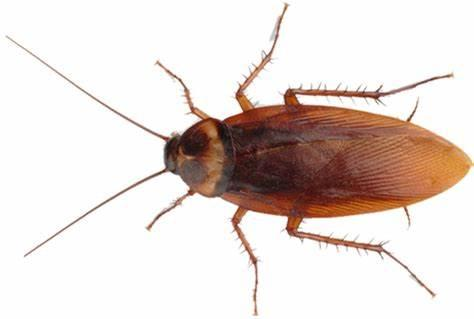cockroach: (150, 75, 473, 250)
